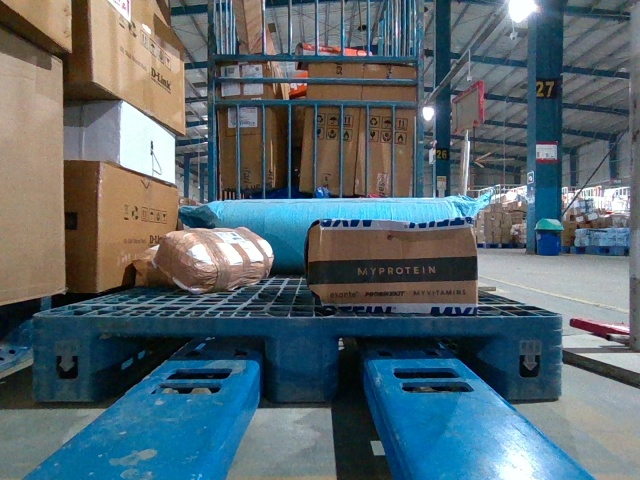block: (266, 318, 348, 409), (32, 317, 112, 404), (488, 314, 564, 404)
front: (32, 314, 563, 405)
hole pallet: (92, 333, 268, 406), (337, 336, 494, 408)
